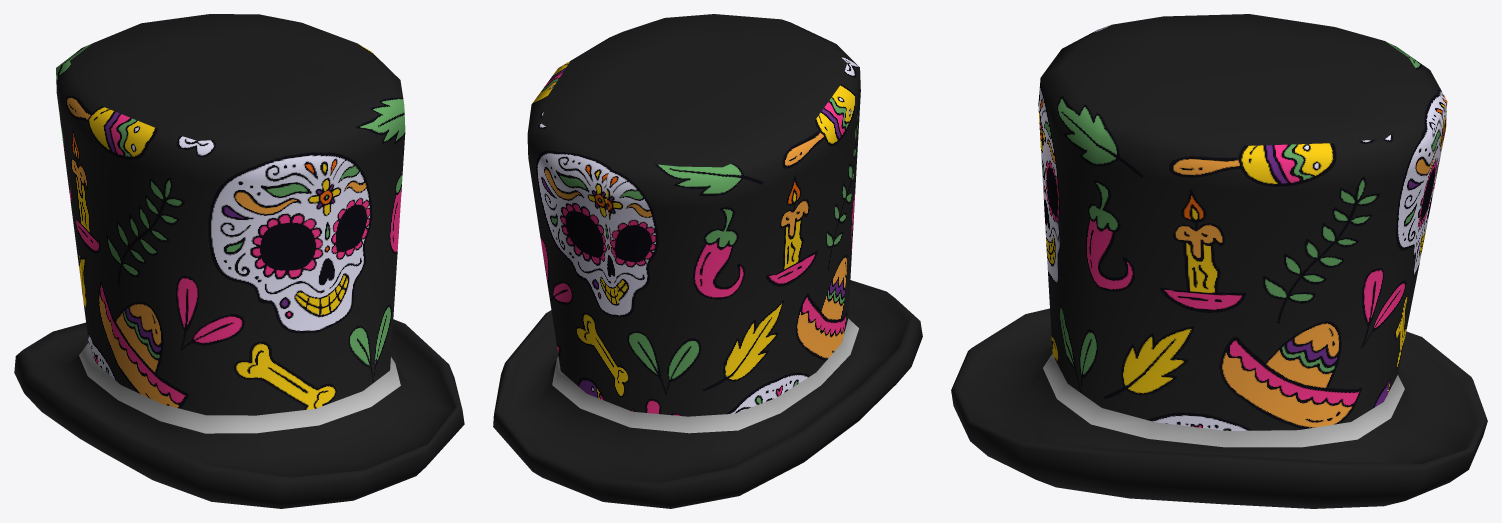
File: M_TopHead_Skull.glb
The picture shows the model from 3 angles, left to right: view 1: azimuth 30°, elevation 25°; view 2: azimuth 150°, elevation 25°; view 3: azimuth 270°, elevation 25°; orthographic projection. The views are drawn at different scales.
Visible parts, largest first — view 1: M_TopHead_Skull; view 2: M_TopHead_Skull; view 3: M_TopHead_Skull.
Boxes of the visible parts, bbox=[...] form: M_TopHead_Skull: bbox=[14, 14, 464, 508]; M_TopHead_Skull: bbox=[493, 14, 922, 508]; M_TopHead_Skull: bbox=[951, 14, 1487, 508].
Size of what is drawn, in the model's own units: 1.04 by 1.06 by 1.32.
2 materials, 2 textured.
